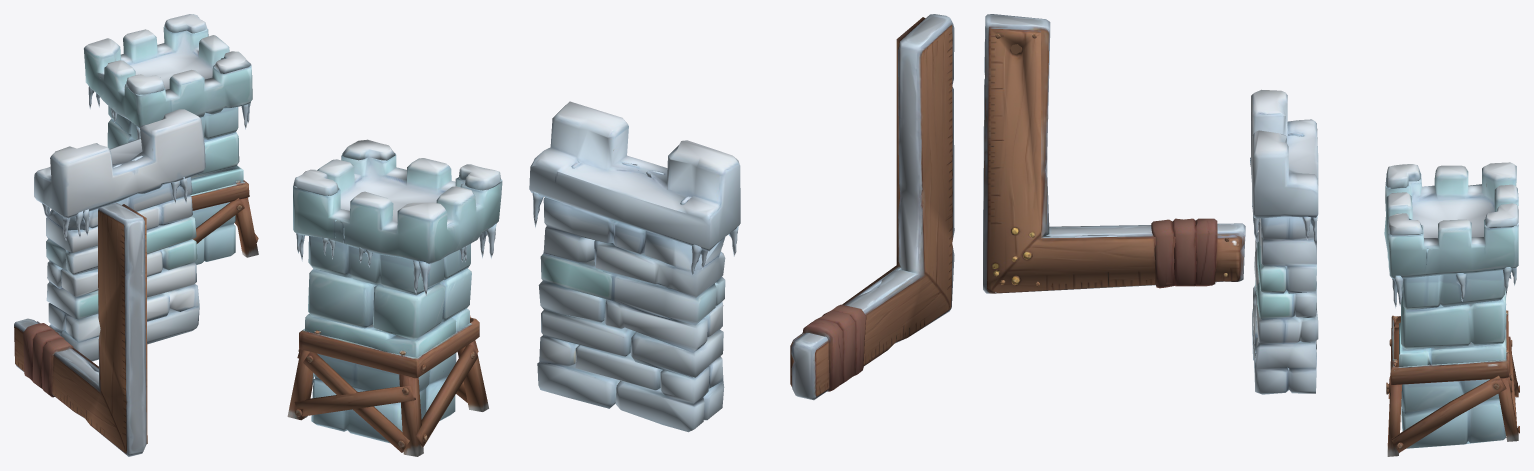
The model's file is architect_props_tripo.glb.
3 views of the same model, side by side, from view 1: azimuth 30°, elevation 25°; view 2: azimuth 150°, elevation 25°; view 3: azimuth 270°, elevation 25° (orthographic). The views are drawn at different scales.
Visible parts, largest first — view 1: tripo_node_381a19af-5127-4301-a930-873f42776e16; view 2: tripo_node_381a19af-5127-4301-a930-873f42776e16; view 3: tripo_node_381a19af-5127-4301-a930-873f42776e16.
Part boxes in pixels (x1,y1,x2,y2): tripo_node_381a19af-5127-4301-a930-873f42776e16: (14,14,258,456); tripo_node_381a19af-5127-4301-a930-873f42776e16: (287,14,954,456); tripo_node_381a19af-5127-4301-a930-873f42776e16: (983,14,1519,456).
Bounding box in the file's own units: 0.7754 × 0.5801 × 0.998.
1 material, 1 textured.
